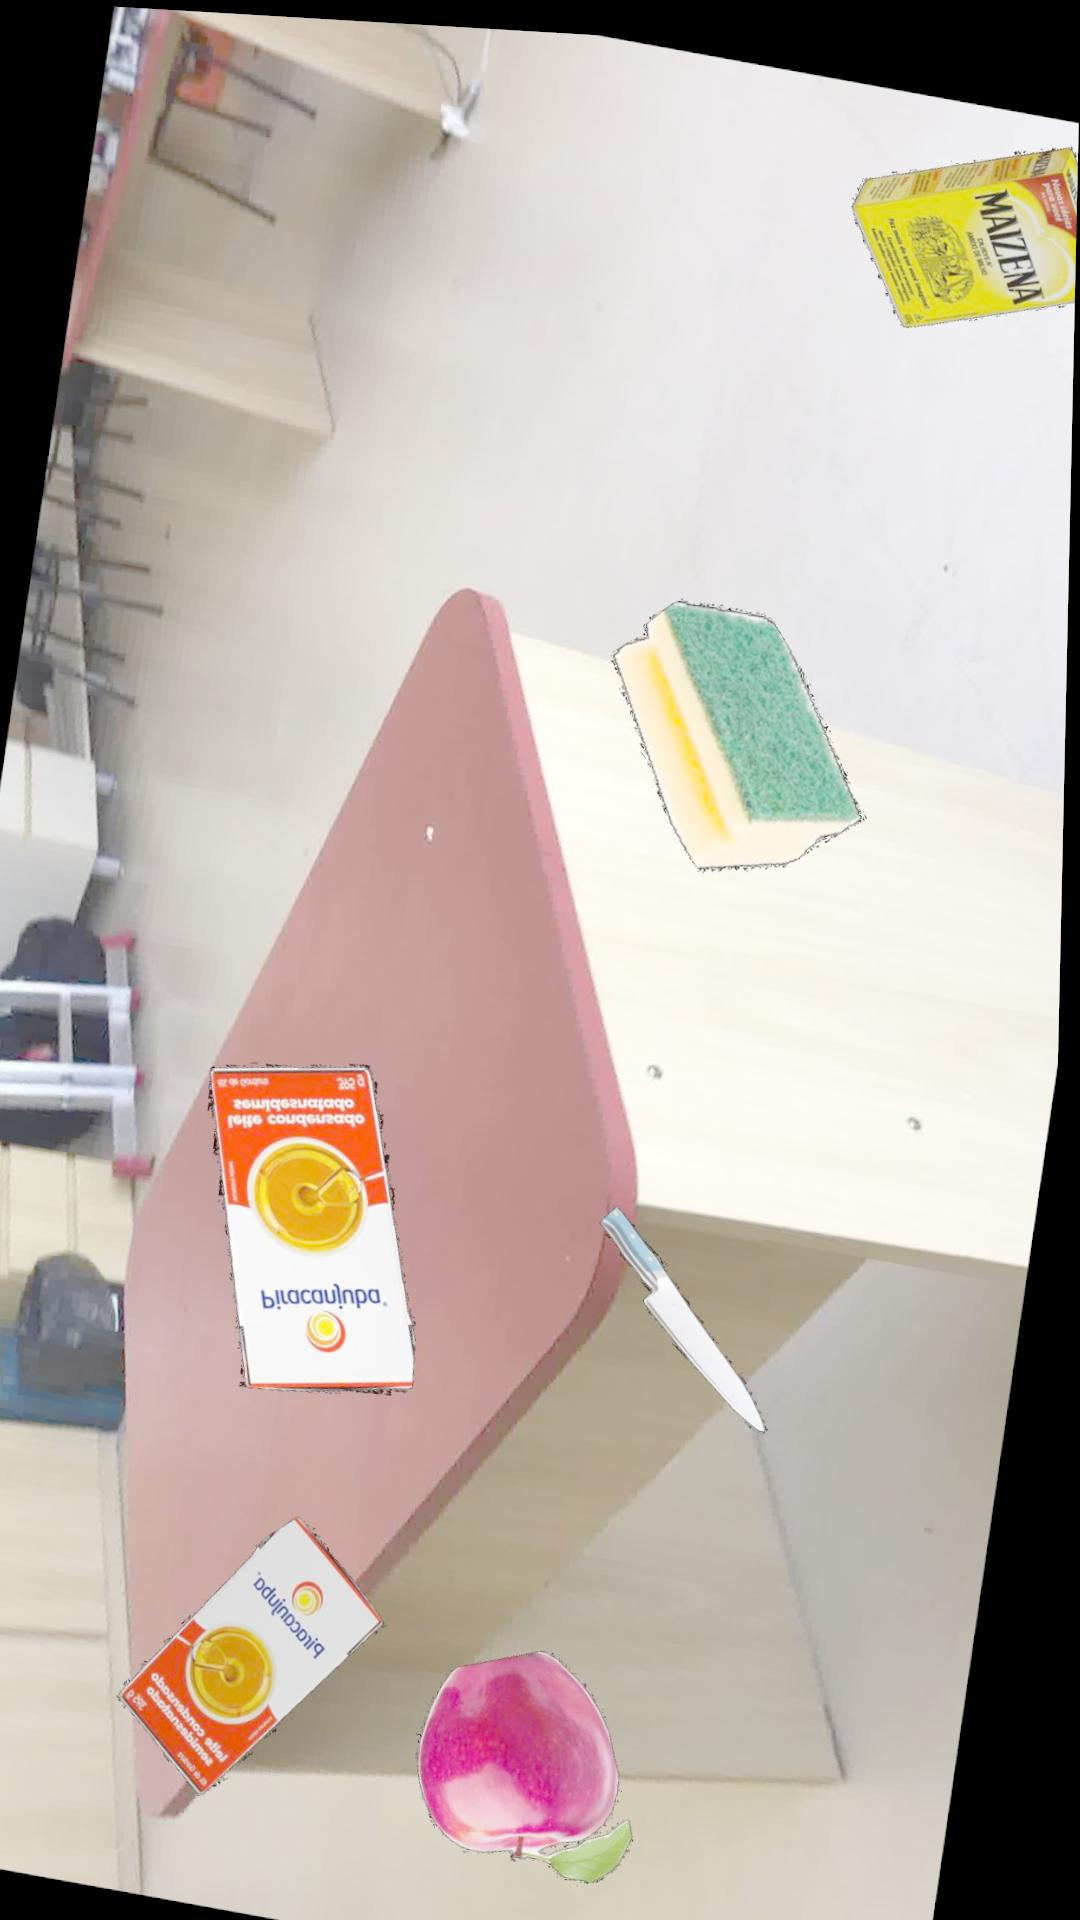apple: (426, 1642, 643, 1874)
knife: (606, 1197, 776, 1422)
sponge: (617, 590, 867, 861)
